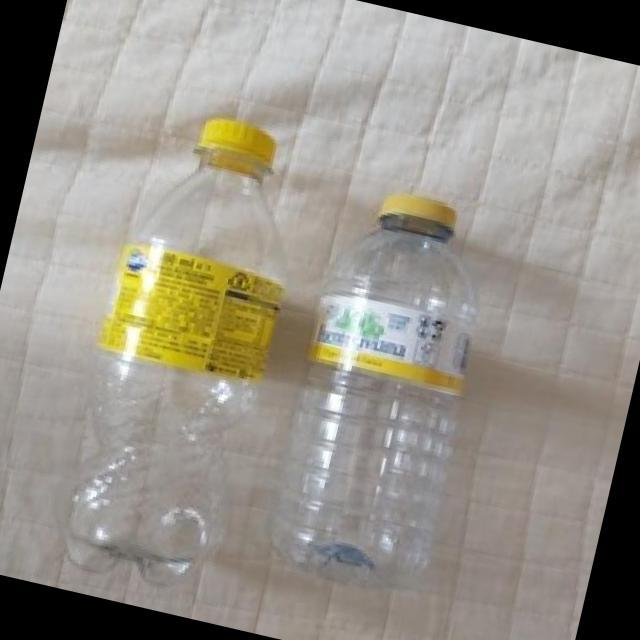good: (31, 90, 329, 601), (244, 165, 513, 609)
